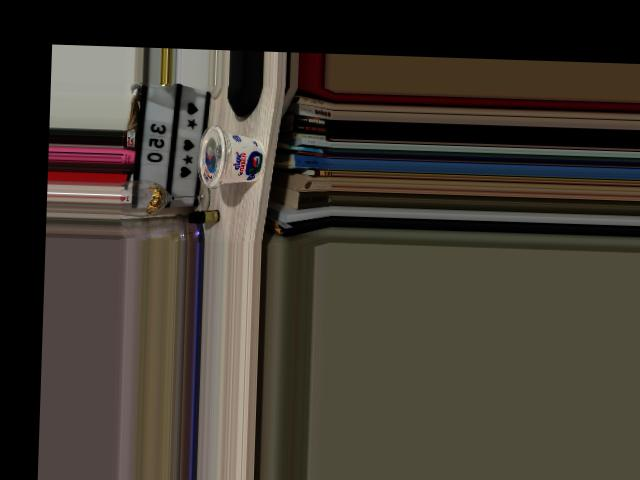cotage: (195, 130, 267, 184)
